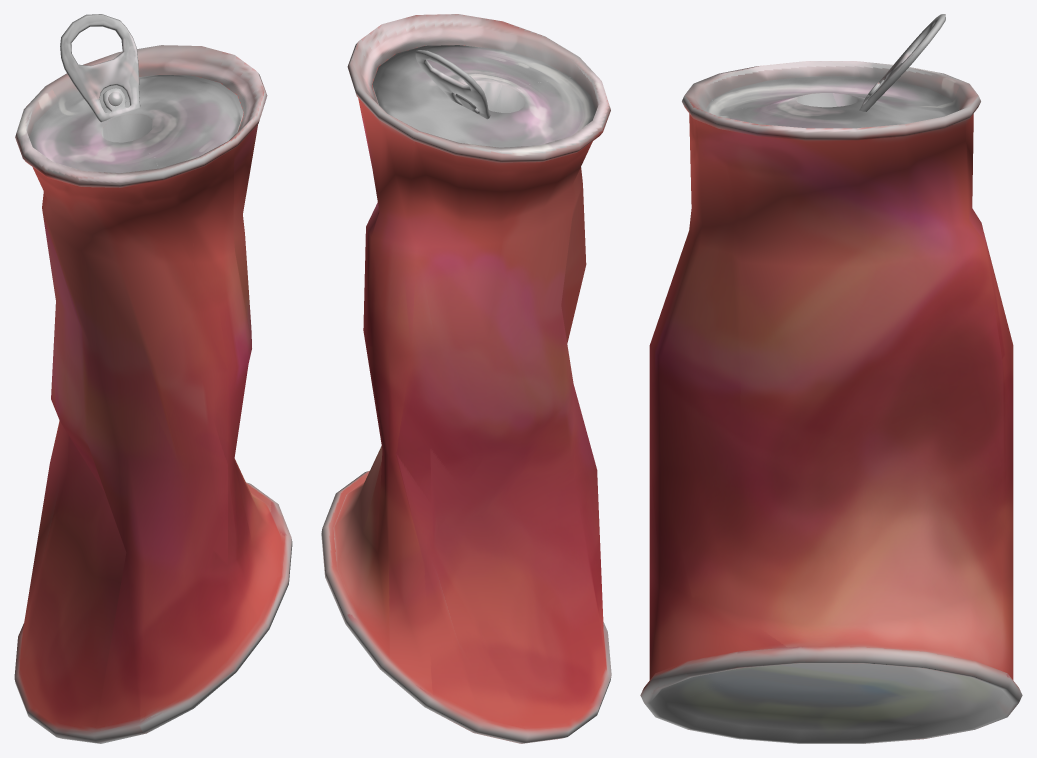
The model's file is Can_Red.fbx.
3 views of the same model, side by side, from view 1: azimuth 30°, elevation 25°; view 2: azimuth 150°, elevation 25°; view 3: azimuth 270°, elevation 25° (orthographic). The views are drawn at different scales.
Visible parts, largest first — view 1: Cylinder.001; view 2: Cylinder.001; view 3: Cylinder.001.
Part boxes in pixels (x1=…): Cylinder.001: x1=14, y1=14, x2=292, y2=743; Cylinder.001: x1=321, y1=14, x2=611, y2=743; Cylinder.001: x1=640, y1=14, x2=1022, y2=743.
Size of the model in its own units: 5.49 by 14.86 by 6.63.
2 materials, 2 textured.
